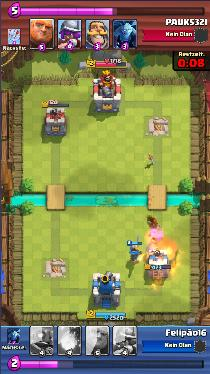ally_knight: (127, 242, 143, 264)
